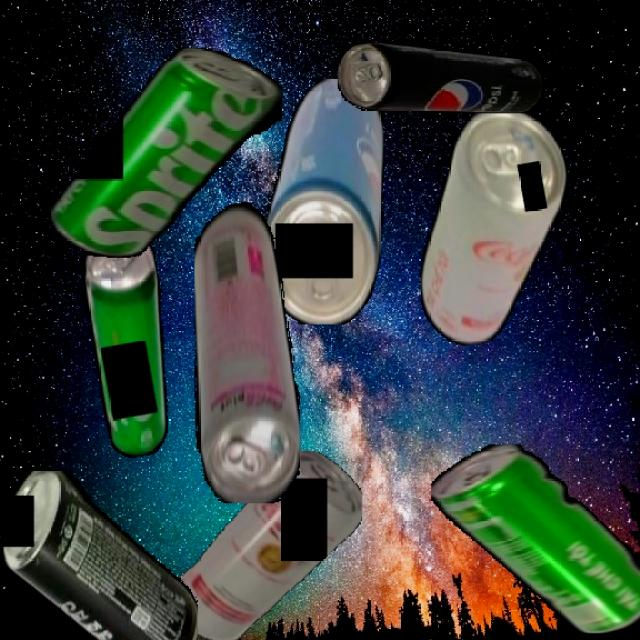debris: (391, 97, 593, 352), (51, 46, 282, 258), (430, 444, 640, 634), (172, 449, 362, 640), (2, 469, 198, 640), (193, 196, 300, 504), (262, 78, 383, 324), (72, 227, 188, 461), (338, 41, 542, 113)
